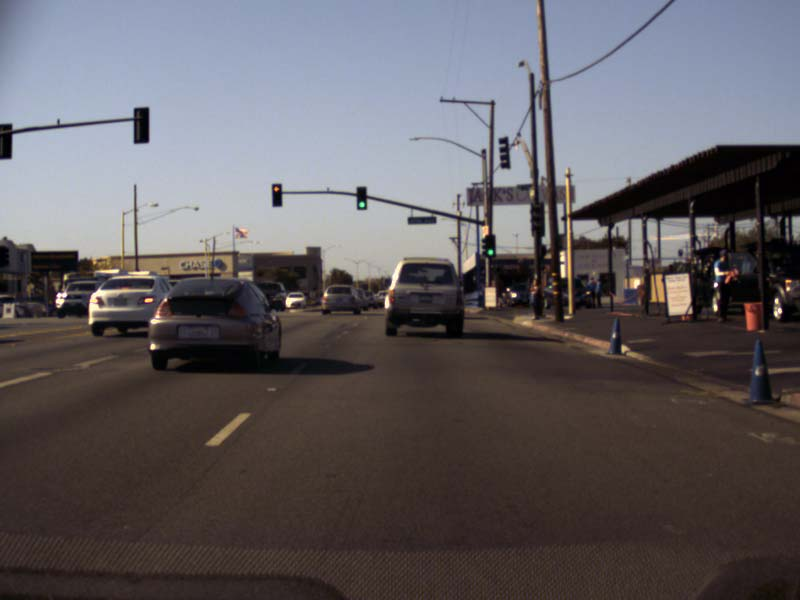Green: (356, 186, 366, 210), (485, 234, 494, 257)
Red: (271, 183, 281, 207)
